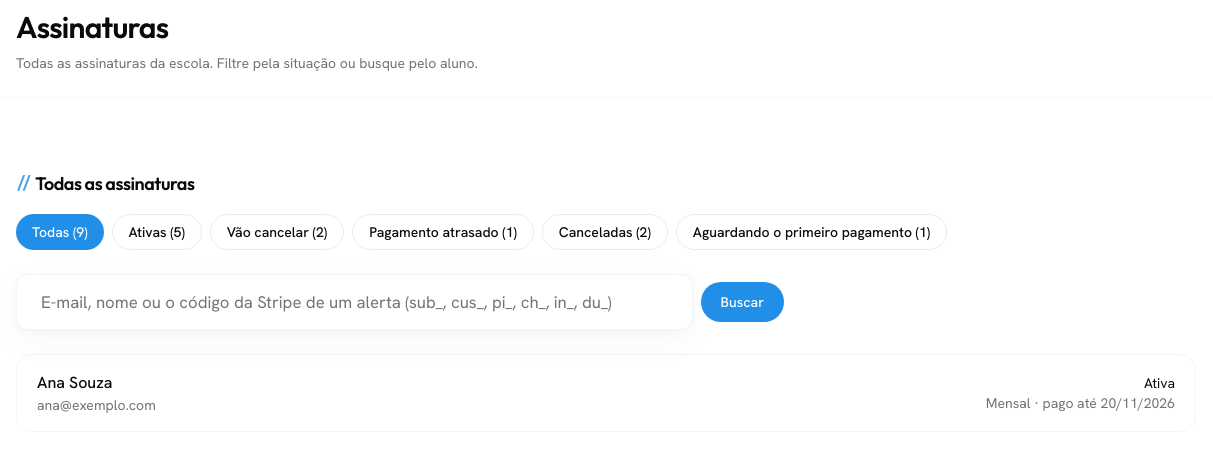
Test: Cobrança → Assinaturas — filtro, busca e página vão ao servidor › a busca vai aparada; 'Limpar' tira a busca
The image size is (1213, 449).
Expected: the link "Ana Souza" is shown, [37,372,112,393]
Replace the text in the field with "  ana@exemplo  " at (354, 302), box [16,274,693,330]
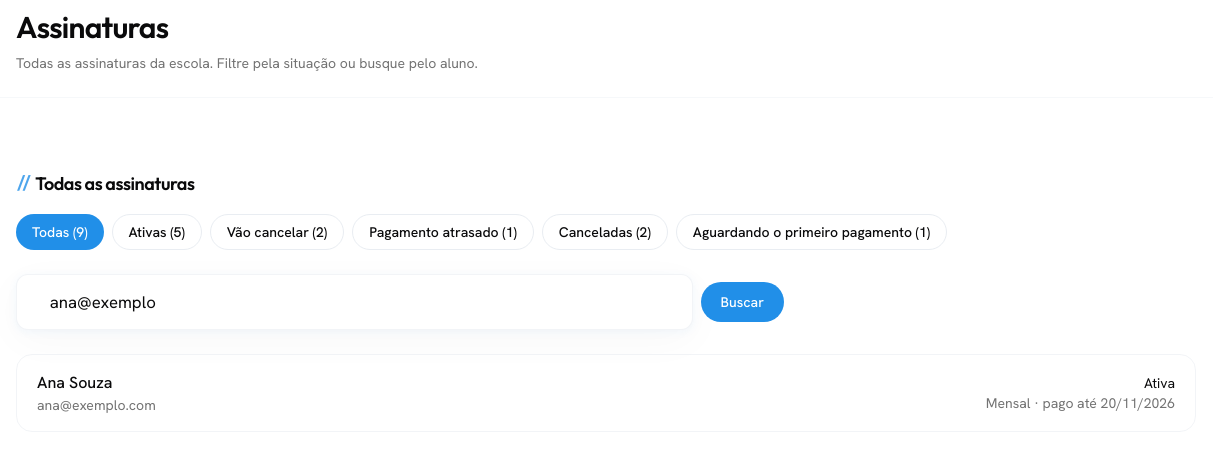
Click the button "Buscar".
click(742, 302)  # box [701,282,784,322]
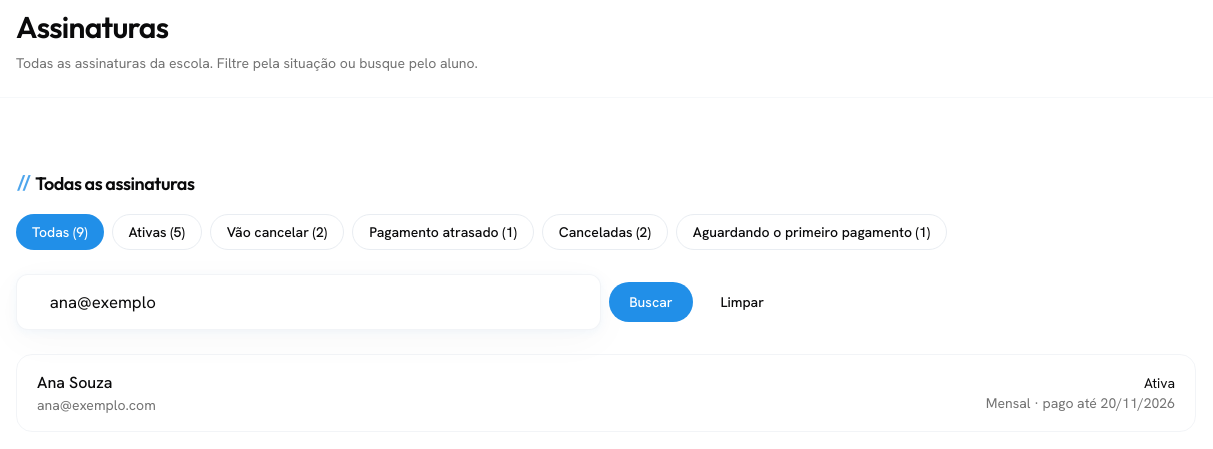
Click the button "Limpar".
click(742, 302)  # box [701,282,784,322]
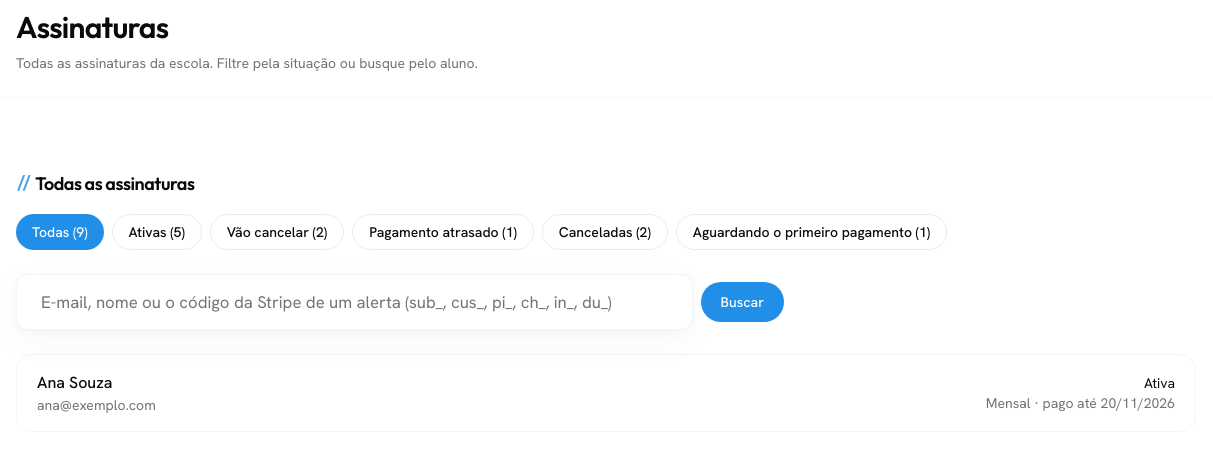
Expected: the field named "Buscar assinaturas" is empty, [16,274,693,330]
